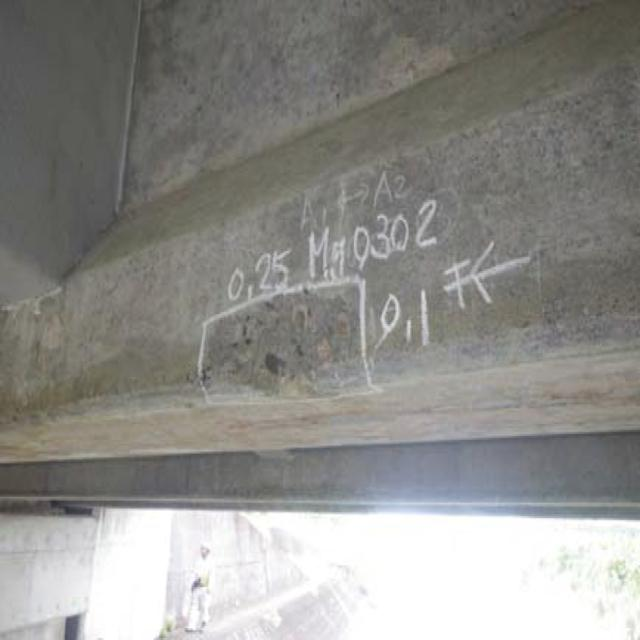spalling: (187, 286, 369, 404)
